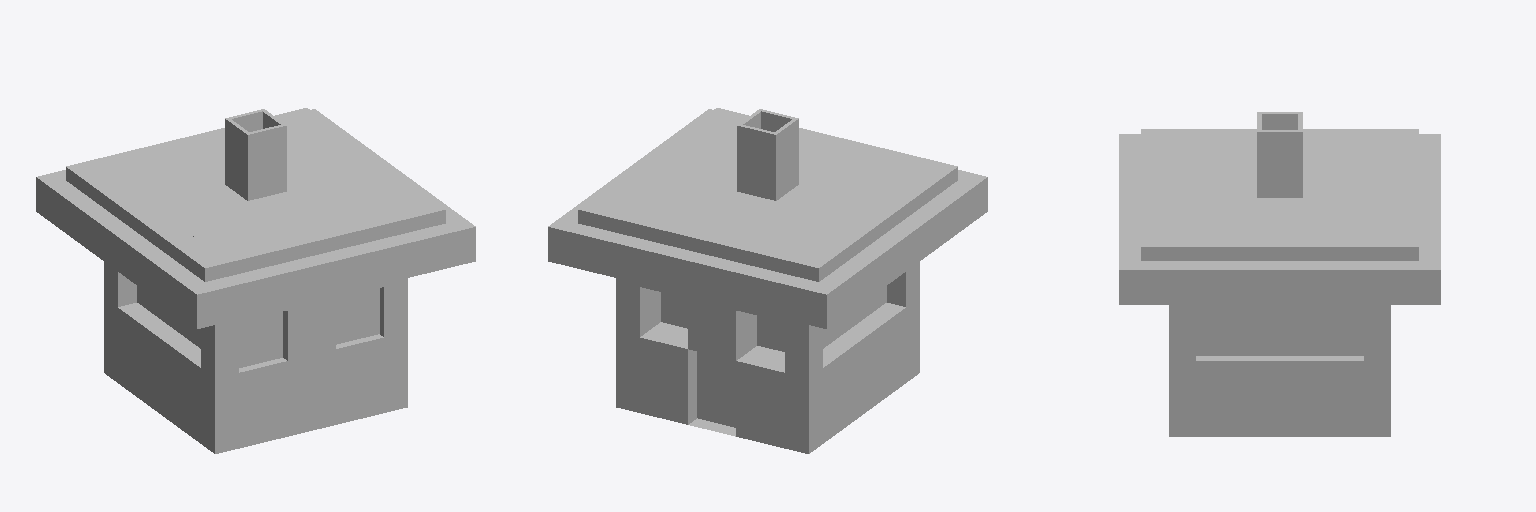
File: Muzeum_2.obj
The picture shows the model from 3 angles: view 1: azimuth 30°, elevation 25°; view 2: azimuth 150°, elevation 25°; view 3: azimuth 270°, elevation 25°; orthographic projection.
Parts seen in each view (by area): view 1: Cube.001; view 2: Cube.001; view 3: Cube.001.
Part boxes in pixels (x1,y1,x2,y2): Cube.001: (36, 108, 475, 453); Cube.001: (548, 108, 987, 453); Cube.001: (1119, 112, 1440, 436).
Size of the model in its own units: 34.97 by 32.12 by 34.97.